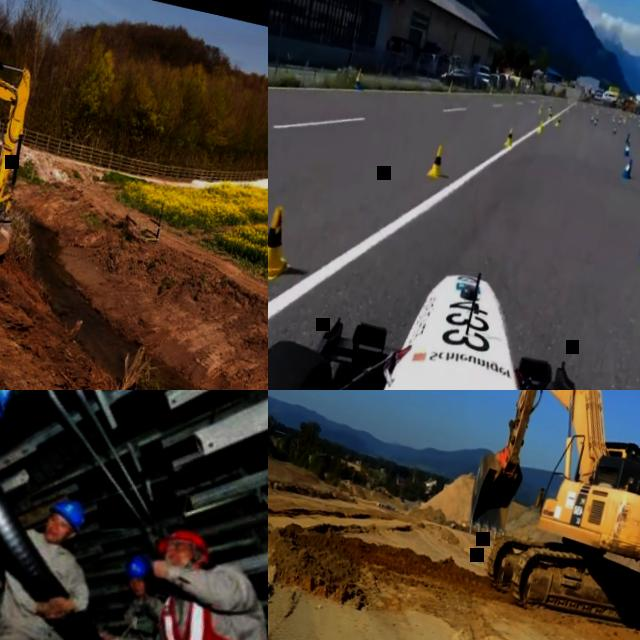Hardhat: (156, 522, 217, 562), (43, 494, 90, 533), (124, 553, 151, 582)
NO-Mask: (167, 549, 201, 572), (44, 525, 63, 543), (133, 579, 150, 597)
NO-Safety Vest: (3, 531, 76, 617), (124, 595, 170, 636)
Person: (78, 506, 268, 640), (0, 485, 128, 640), (115, 551, 187, 640)
Safety Cone: (268, 198, 300, 286), (426, 137, 449, 179), (621, 153, 636, 179), (502, 123, 517, 148), (353, 67, 365, 89), (536, 116, 546, 135), (622, 140, 632, 155), (447, 76, 454, 93), (554, 112, 561, 127), (488, 82, 494, 95), (538, 101, 544, 114), (547, 109, 552, 121), (590, 111, 595, 122), (593, 114, 598, 125), (612, 124, 617, 134), (511, 87, 515, 95)
Safety Vest: (151, 585, 268, 640)
vehicle: (268, 219, 640, 390), (450, 390, 640, 638)
